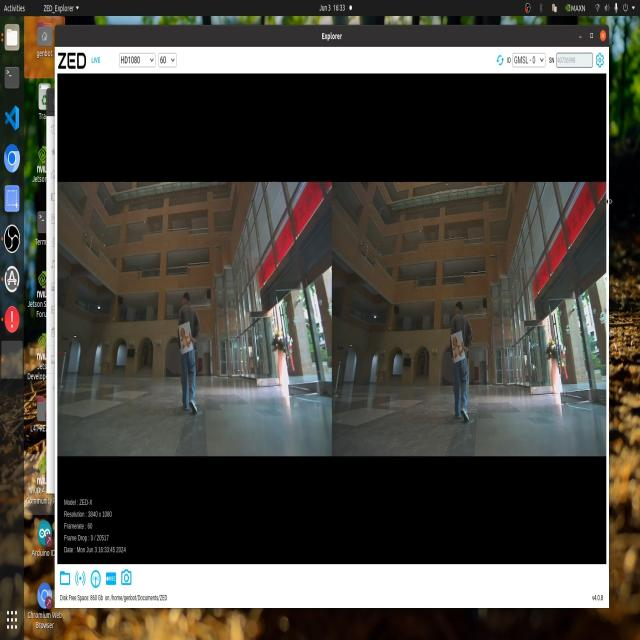red: (446, 334, 467, 362), (180, 325, 193, 348)
